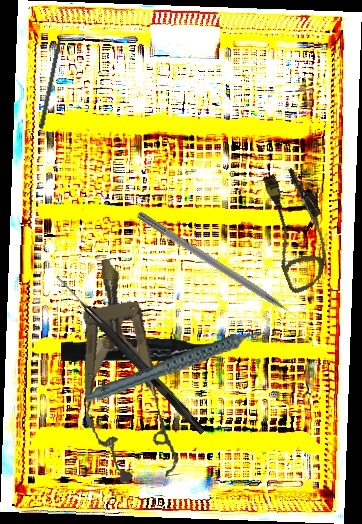Cannula: (249, 162, 345, 296)
Handpiece: (81, 329, 276, 404)
Hook Surgical: (51, 273, 209, 436)
Pusher: (134, 210, 313, 331), (38, 20, 68, 130)
Speculum: (62, 252, 184, 488)
Tissue Forceps: (60, 335, 228, 367)
